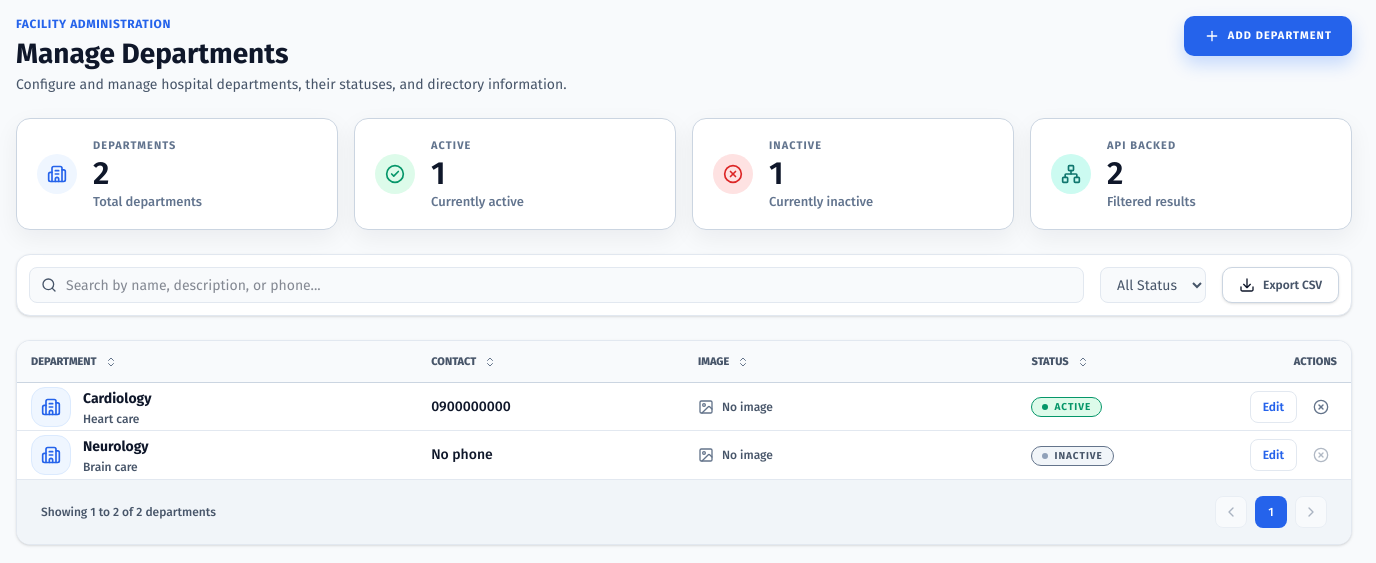
Test: AdminDepartmentsPage › filters departments locally by search text
Expected: the text "Cardiology" is shown, [83,390,152,406]
In the search field named "search departments": (557, 285) [29,267,1084,303], type "neuro"
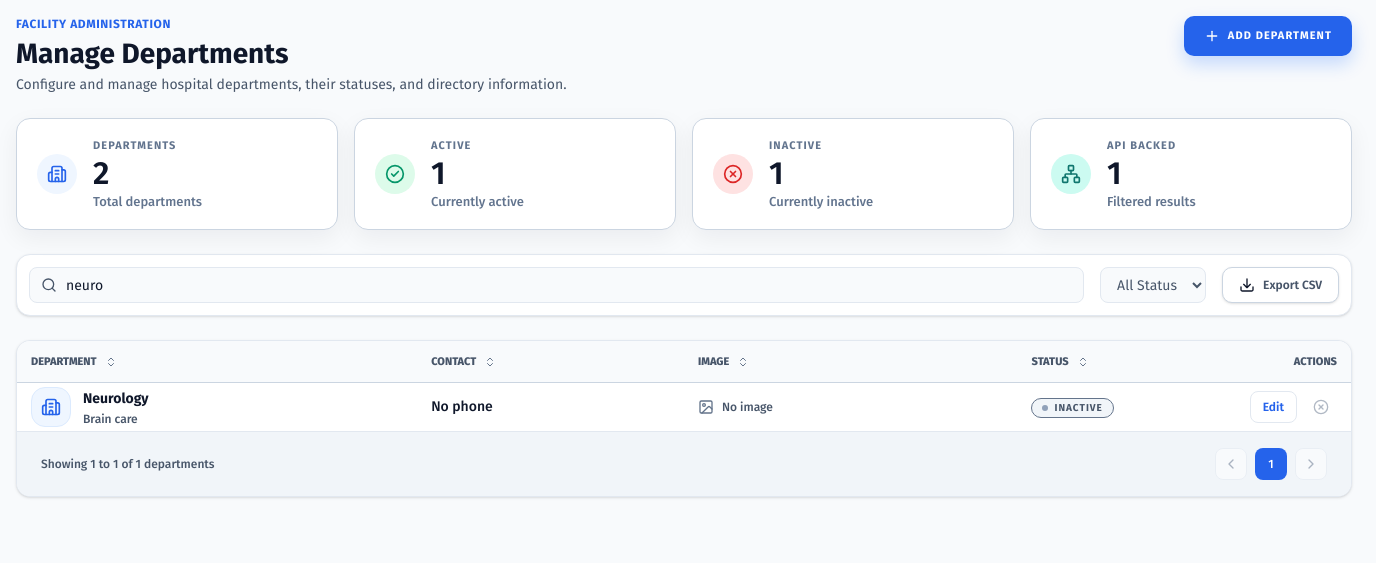
Expected: the text "Neurology" is shown, [83,390,149,407]
Now the text "Cardiology" is gone
